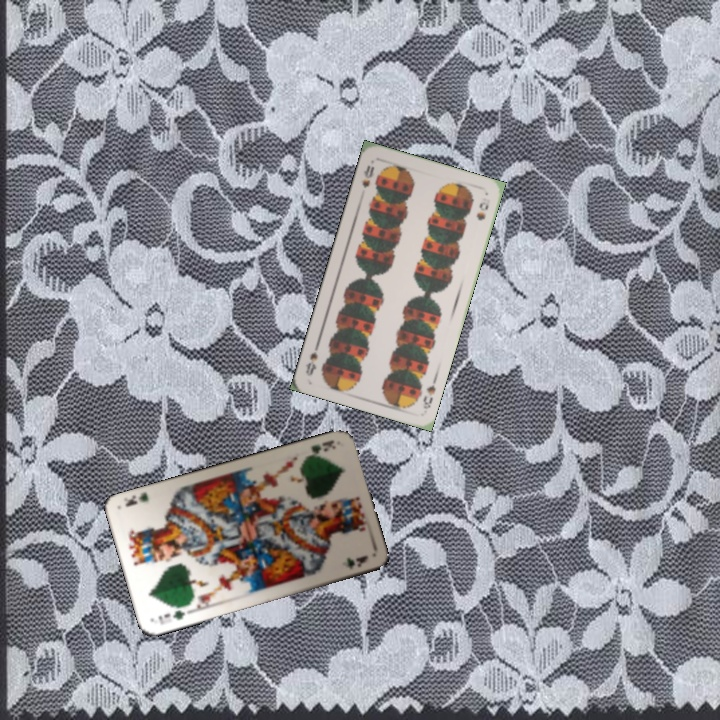GK: (301, 436, 338, 462), (154, 606, 187, 627)
S8: (419, 373, 439, 412), (358, 161, 377, 190)
